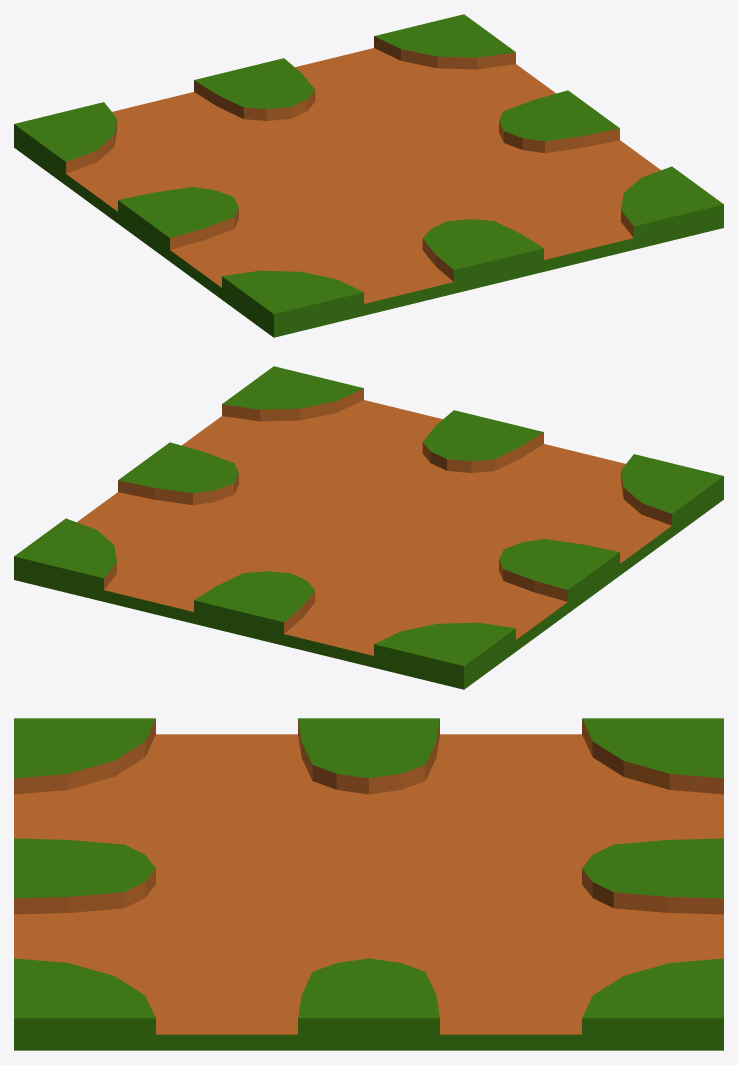
Rendered from Tile_Grass_Road_Cross.fbx.
The picture shows the model from 3 angles, top to bottom: view 1: azimuth 30°, elevation 25°; view 2: azimuth 150°, elevation 25°; view 3: azimuth 270°, elevation 25°; orthographic projection. The views are drawn at different scales.
Parts seen in each view (by area): view 1: Tile_Grass_Road_Cross; view 2: Tile_Grass_Road_Cross; view 3: Tile_Grass_Road_Cross.
Boxes of the visible parts, bbox=[...] form: Tile_Grass_Road_Cross: bbox=[14, 14, 723, 337]; Tile_Grass_Road_Cross: bbox=[14, 366, 723, 689]; Tile_Grass_Road_Cross: bbox=[14, 718, 723, 1050].
Bounding box in the file's own units: 100 × 5 × 100.
